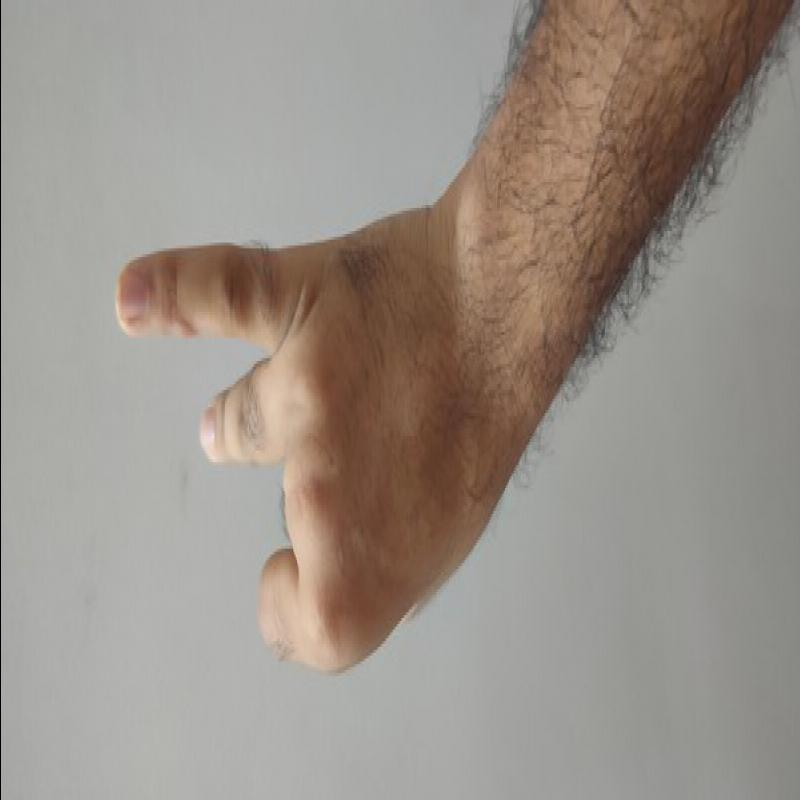Katakam: (92, 171, 486, 699)
